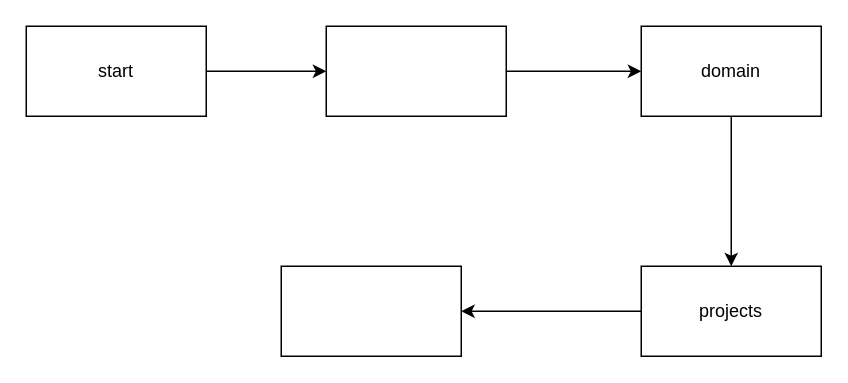
The diagram is 848 pixels wide and 383 high, and some of its shapes have lost their labels. The shapes that lost their labels are listed below. From the top down, each one's centre as x and y in pixels, then its label:
point (415, 70): centre
point (370, 310): assign domain to project
